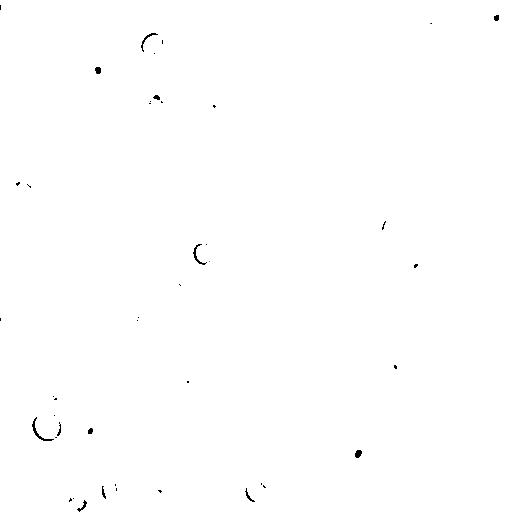micro-algae: (362, 257, 448, 353), (341, 261, 411, 345), (1, 139, 32, 193), (340, 436, 381, 476), (271, 374, 310, 414), (358, 409, 397, 445), (33, 51, 69, 87), (415, 299, 451, 335), (393, 245, 429, 277), (415, 0, 449, 32), (56, 481, 90, 512), (237, 33, 269, 64), (393, 281, 423, 313), (244, 438, 282, 463), (31, 411, 61, 442), (71, 416, 101, 447), (78, 53, 108, 83), (195, 86, 223, 117), (386, 314, 418, 339), (315, 152, 348, 176), (383, 351, 406, 382), (341, 335, 369, 360), (207, 491, 241, 511), (483, 3, 509, 29), (141, 94, 168, 119), (193, 119, 221, 143), (191, 239, 216, 265), (278, 60, 305, 84), (81, 158, 102, 188), (141, 31, 164, 57), (377, 216, 399, 243), (62, 449, 86, 473), (244, 478, 267, 503), (372, 0, 405, 17), (231, 122, 255, 145), (173, 368, 199, 389), (167, 270, 189, 294), (319, 104, 344, 125), (97, 66, 119, 89), (101, 442, 125, 462), (99, 477, 119, 501), (116, 73, 139, 93), (41, 387, 61, 407), (30, 165, 49, 185), (66, 495, 89, 510), (12, 179, 33, 195), (125, 303, 141, 324), (145, 485, 163, 503)
